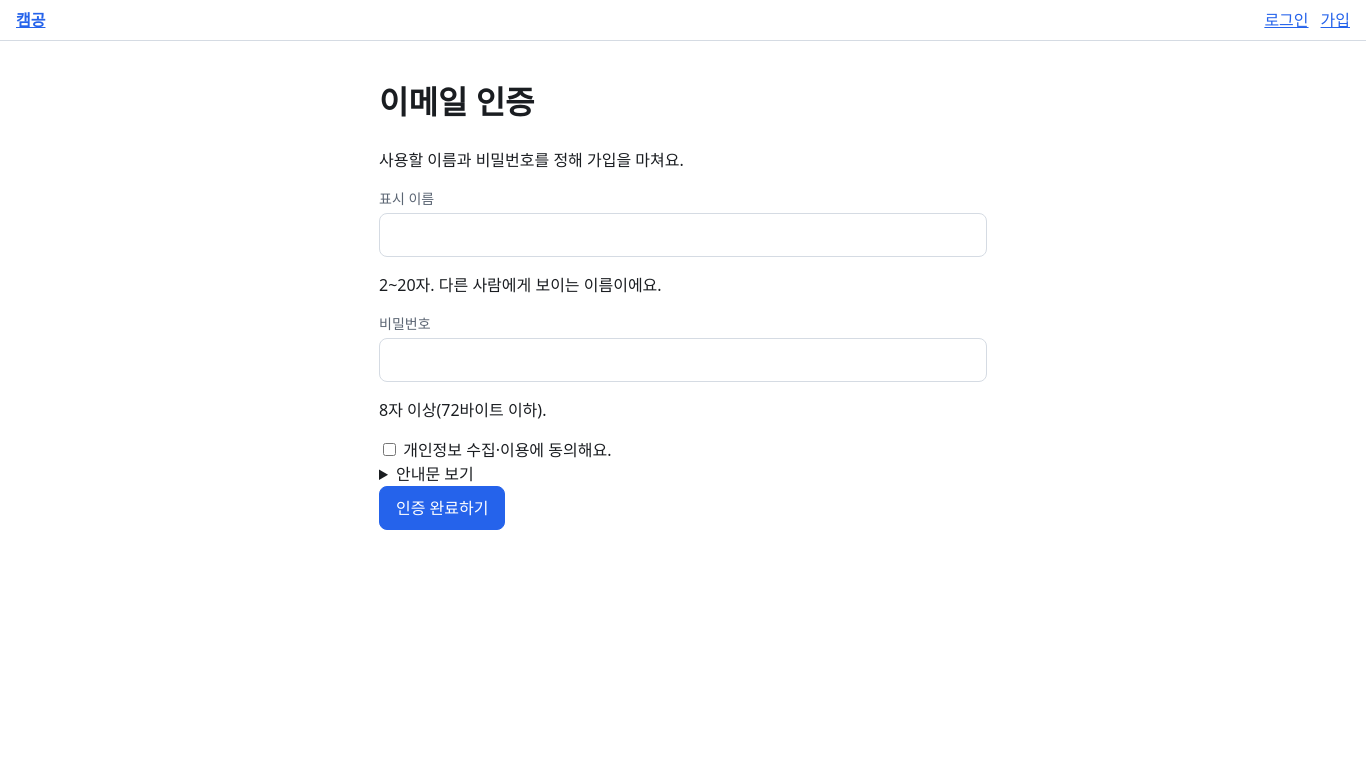
Scenario: ALREADY_REGISTERED는 로그인 링크 (검수 11) › 인증 화면
The width and height of the screenshot is (1366, 768).
Type "새내기" into the field labelled "표시 이름" at (683, 235), box [379, 213, 987, 257]
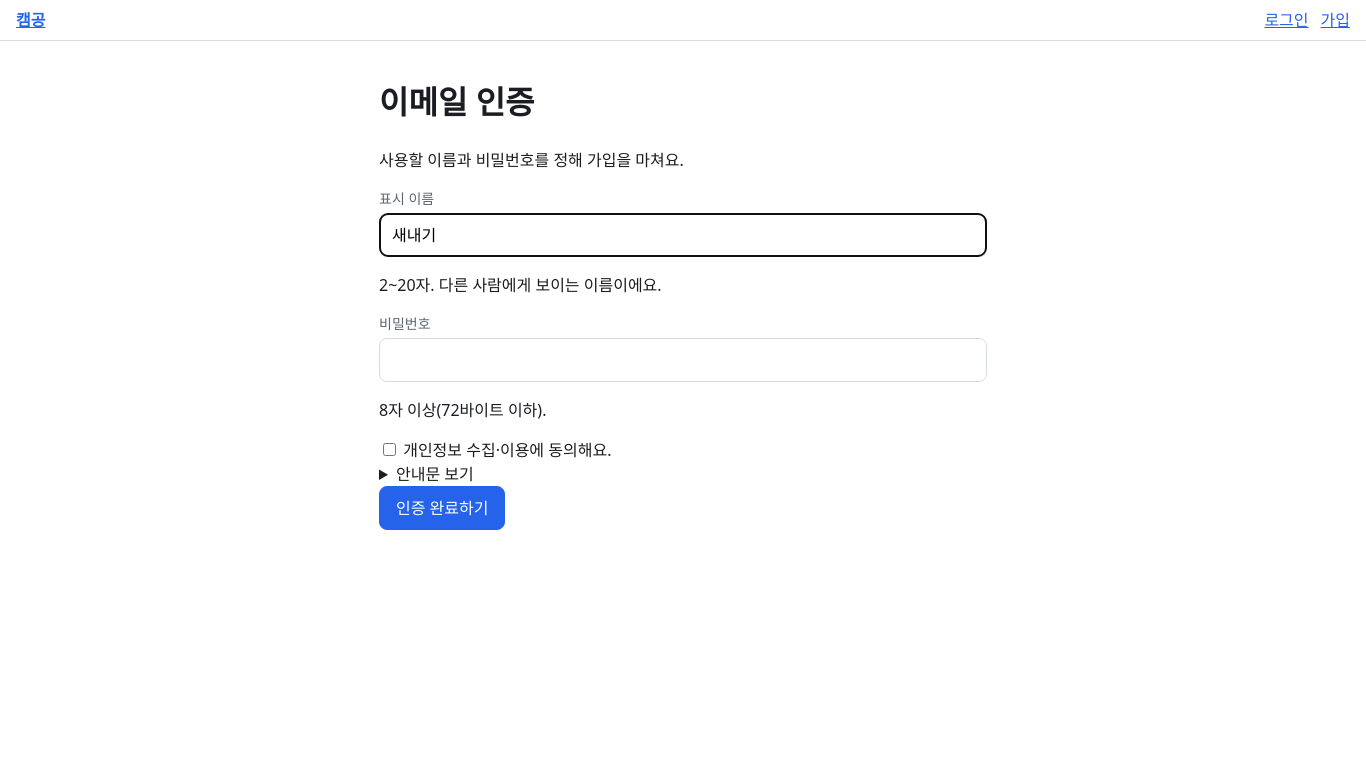
Type "password1234" into the password field labelled "비밀번호" at (683, 360), box [379, 338, 987, 382]
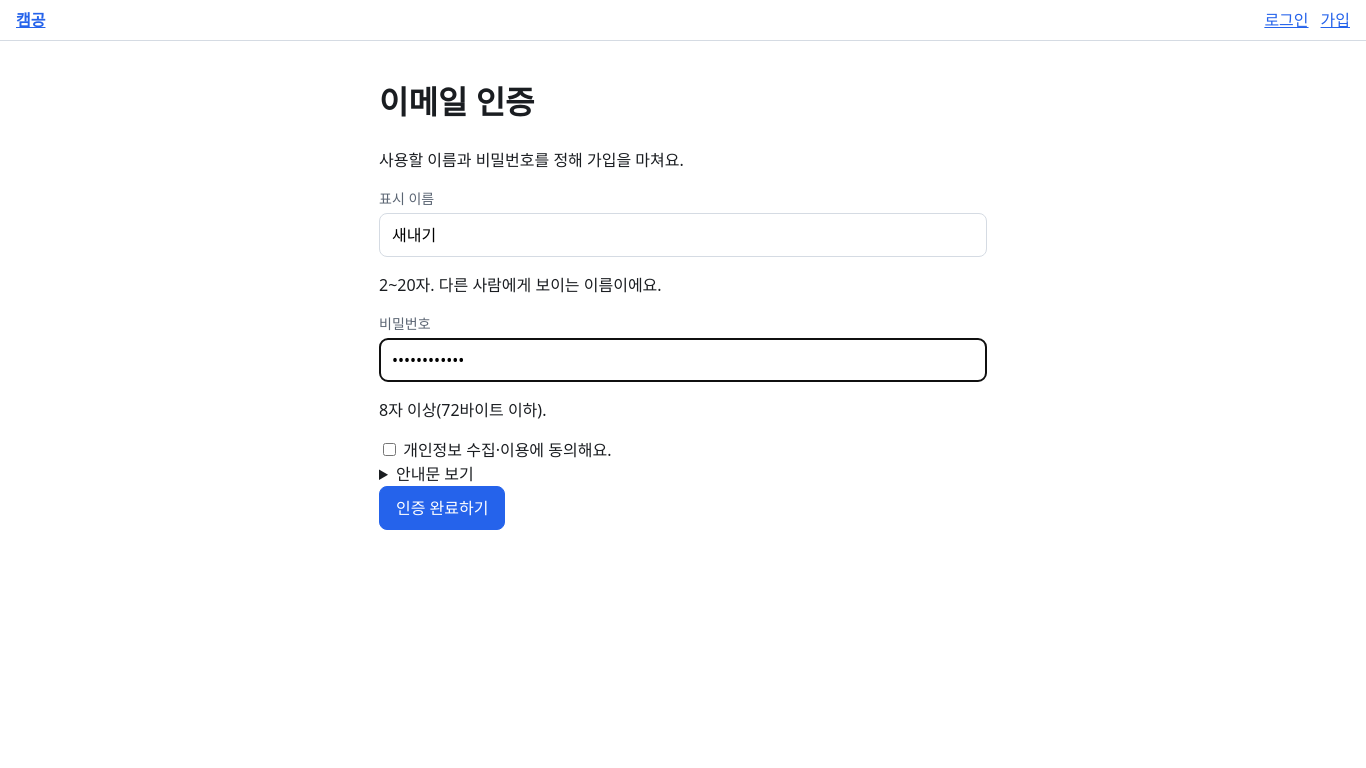
Click the checkbox at (390, 449), box [383, 443, 396, 456]
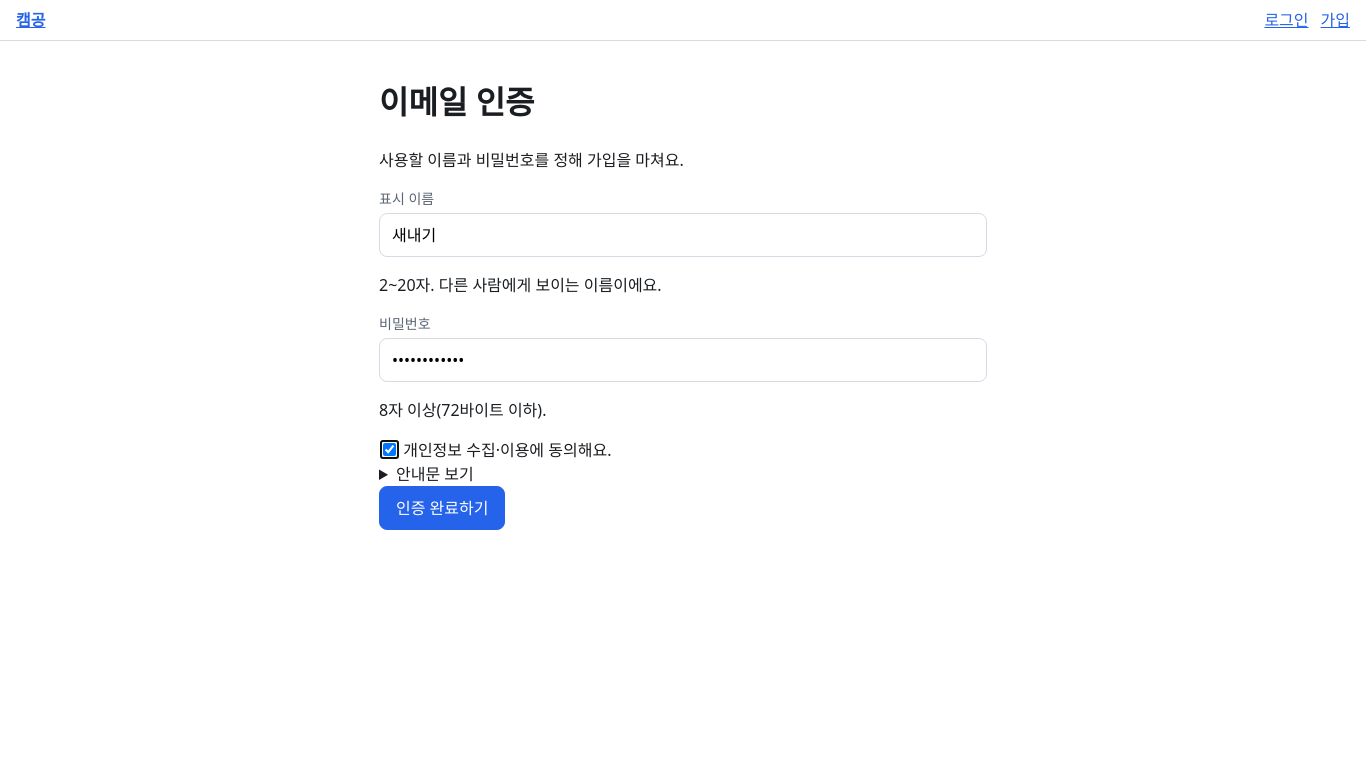
Click the button "인증 완료하기" at (442, 508), box [379, 486, 506, 530]
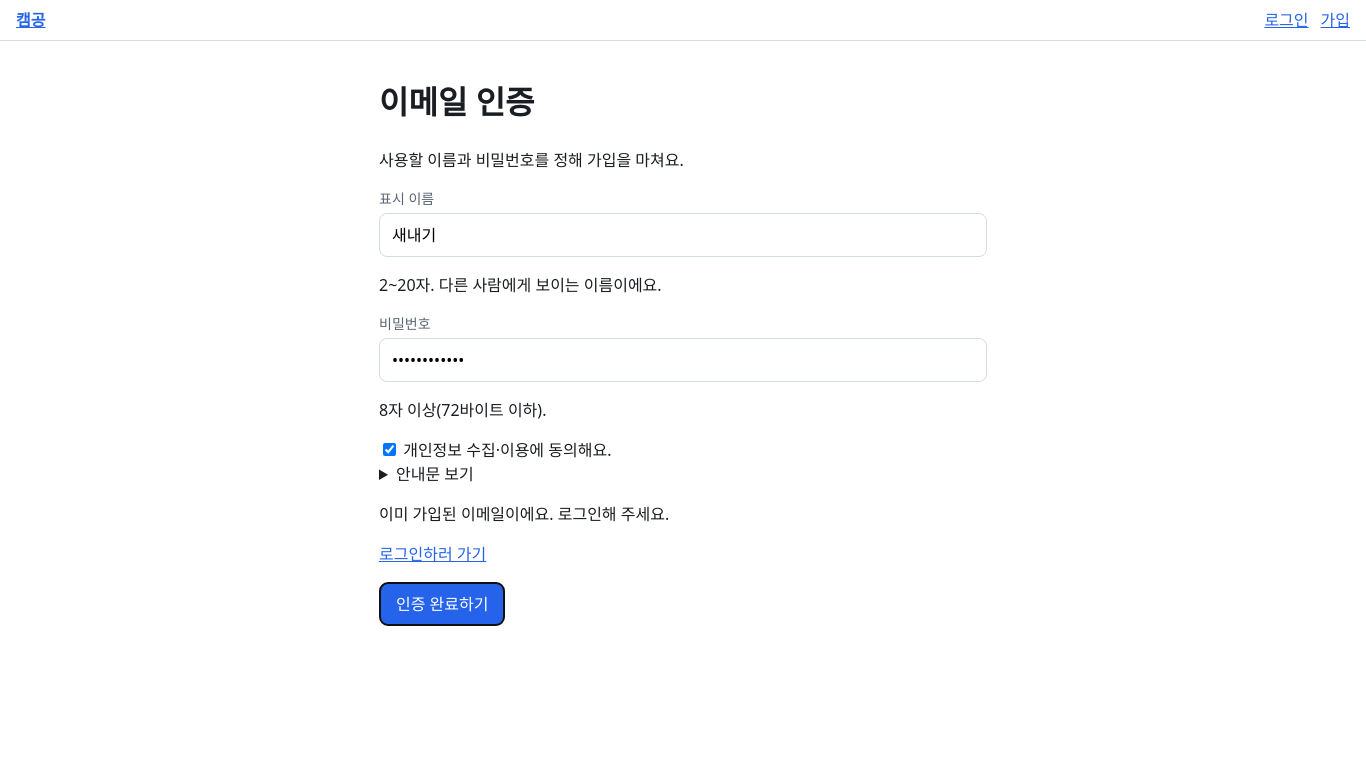
Expected: the text "이미 가입된 이메일이에요. 로그인해 주세요." is shown, [379, 503, 669, 525]
